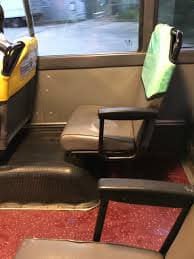seat: (62, 24, 178, 159)
